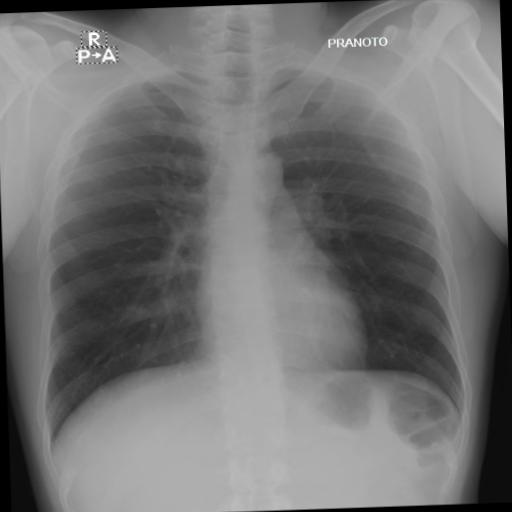normal: (22, 39, 482, 454)
